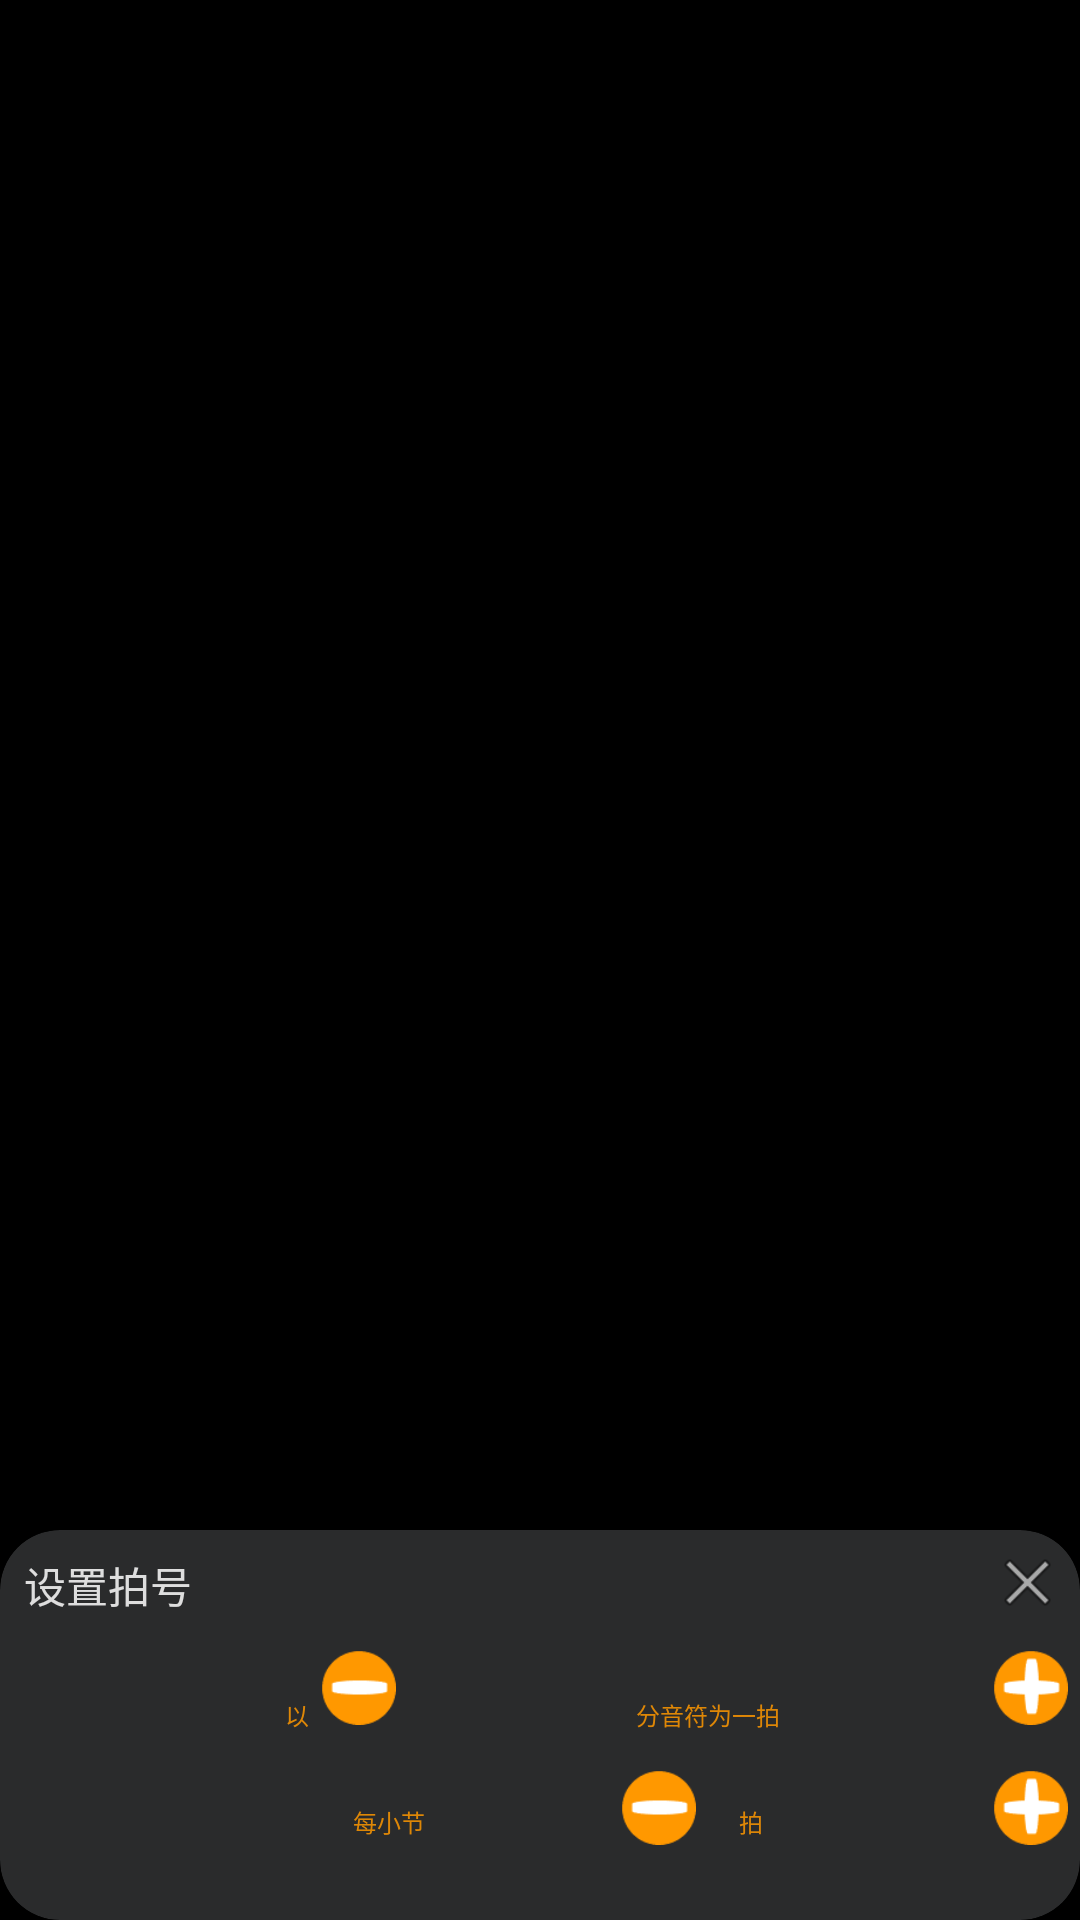

Icon bounding boxes for this 1080x1920 phone screenshot, format (x1, y1, x2, y2):
add: (994, 1651, 1068, 1725), (994, 1771, 1068, 1845)
close clear cancel: (1007, 1562, 1048, 1603)
minus: (322, 1651, 396, 1725), (622, 1771, 696, 1845)
